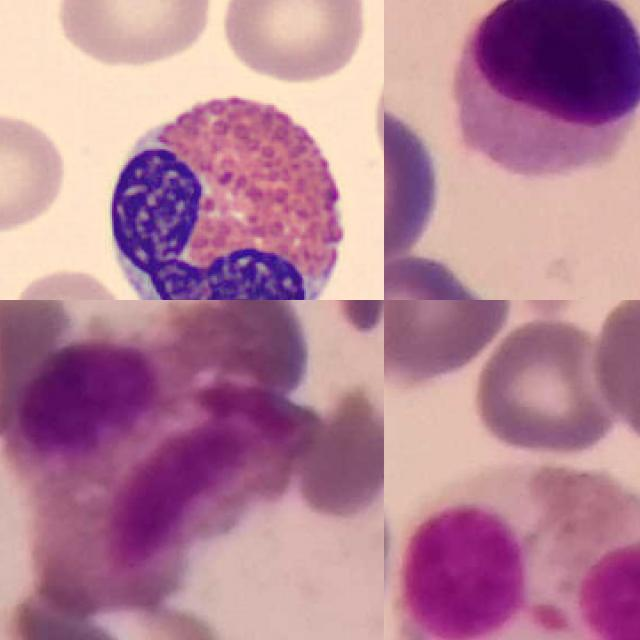Eosinophil: (0, 317, 317, 590), (92, 75, 360, 300), (397, 456, 640, 640)
Lymphocyte: (454, 0, 640, 178)
RBC: (215, 0, 373, 85), (50, 0, 217, 71), (0, 106, 71, 235), (0, 262, 131, 300)
